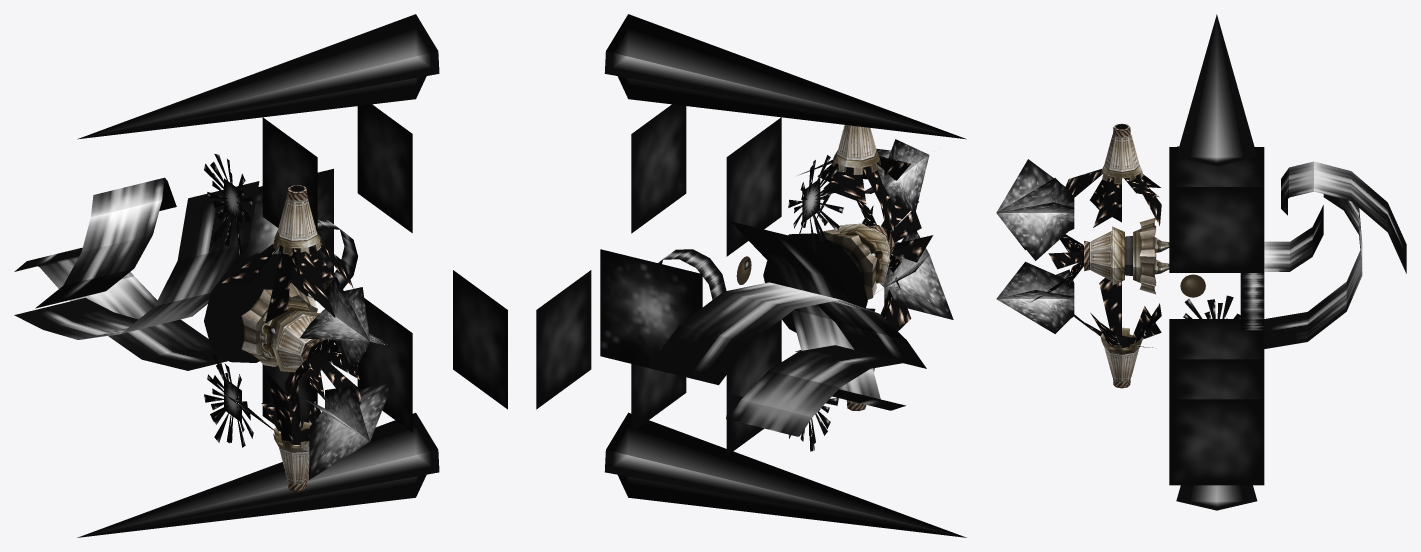
The picture shows the model from 3 angles, left to right: view 1: azimuth 30°, elevation 25°; view 2: azimuth 150°, elevation 25°; view 3: azimuth 270°, elevation 25°; orthographic projection. The views are drawn at different scales.
Visible parts, largest first — view 1: M_0081_1, M_0081_0; view 2: M_0081_1, M_0081_0; view 3: M_0081_1, M_0081_0.
Boxes of the visible parts, x1,y1,x2,y2 form: M_0081_1: (14, 14, 507, 537); M_0081_0: (204, 185, 334, 491); M_0081_1: (536, 14, 966, 537); M_0081_0: (736, 125, 894, 410); M_0081_1: (996, 14, 1406, 510); M_0081_0: (1084, 123, 1205, 388).
Bounding box in the file's own units: 15.3 × 17.48 × 15.57.
Materials: 2 (2 with a texture image).
